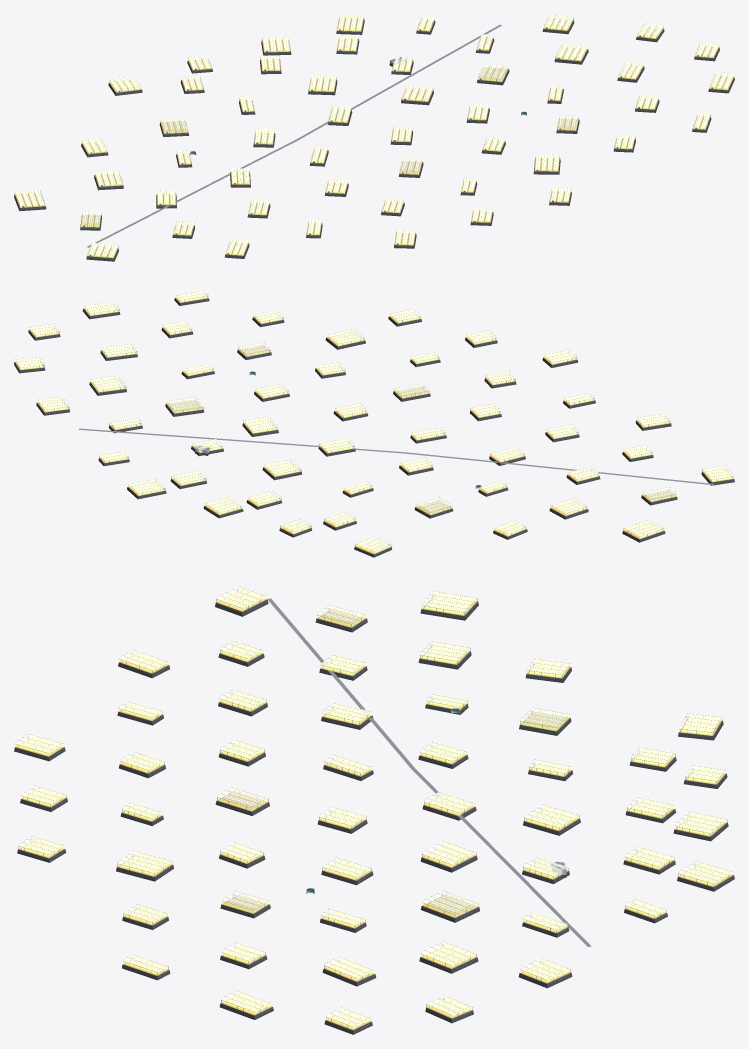
The model's file is agri_w1_thai_phien_central_T_E02_N01.glb.
3 renders of one model, top to bottom at view 1: azimuth 30°, elevation 25°; view 2: azimuth 150°, elevation 25°; view 3: azimuth 270°, elevation 25°, orthographic. The views are drawn at different scales.
Parts seen in each view (by area): view 1: Greenhouse_PE_Film_Shell_Blend, Night_GrowLight_2700K_Core, Taluy_SplitStone_Foundation, Terrace_Basalt_Soil_And_Lanes, Galvanized_Steel_Arches_And_Gutters, Interior_Chrysanthemum_Flower_Beds, Farm_Concrete_Lane; view 2: Greenhouse_PE_Film_Shell_Blend, Night_GrowLight_2700K_Core, Taluy_SplitStone_Foundation, Galvanized_Steel_Arches_And_Gutters, Interior_Chrysanthemum_Flower_Beds, Terrace_Basalt_Soil_And_Lanes, Farm_Concrete_Lane; view 3: Greenhouse_PE_Film_Shell_Blend, Night_GrowLight_2700K_Core, Taluy_SplitStone_Foundation, Galvanized_Steel_Arches_And_Gutters, Interior_Chrysanthemum_Flower_Beds, Terrace_Basalt_Soil_And_Lanes, Farm_Concrete_Lane.
Part boxes in pixels (left/top/right/bottom): Greenhouse_PE_Film_Shell_Blend: left=15, top=14, right=733, bottom=258; Night_GrowLight_2700K_Core: left=16, top=15, right=732, bottom=256; Taluy_SplitStone_Foundation: left=14, top=20, right=734, bottom=261; Terrace_Basalt_Soil_And_Lanes: left=14, top=18, right=734, bottom=258; Galvanized_Steel_Arches_And_Gutters: left=15, top=15, right=733, bottom=257; Interior_Chrysanthemum_Flower_Beds: left=16, top=19, right=732, bottom=257; Farm_Concrete_Lane: left=87, top=24, right=501, bottom=247; Greenhouse_PE_Film_Shell_Blend: left=15, top=290, right=733, bottom=553; Night_GrowLight_2700K_Core: left=17, top=291, right=731, bottom=552; Taluy_SplitStone_Foundation: left=14, top=298, right=734, bottom=557; Galvanized_Steel_Arches_And_Gutters: left=15, top=290, right=733, bottom=554; Interior_Chrysanthemum_Flower_Beds: left=16, top=297, right=732, bottom=553; Terrace_Basalt_Soil_And_Lanes: left=15, top=297, right=733, bottom=554; Farm_Concrete_Lane: left=79, top=428, right=713, bottom=485; Greenhouse_PE_Film_Shell_Blend: left=15, top=586, right=733, bottom=1030; Night_GrowLight_2700K_Core: left=19, top=587, right=730, bottom=1028; Taluy_SplitStone_Foundation: left=14, top=600, right=734, bottom=1034; Galvanized_Steel_Arches_And_Gutters: left=15, top=586, right=730, bottom=1027; Interior_Chrysanthemum_Flower_Beds: left=17, top=593, right=731, bottom=1029; Terrace_Basalt_Soil_And_Lanes: left=15, top=597, right=733, bottom=1030; Farm_Concrete_Lane: left=267, top=598, right=591, bottom=946.
Size of the model in its own units: 1060 by 38.75 by 697.
Materials: 9 (2 with a texture image).
